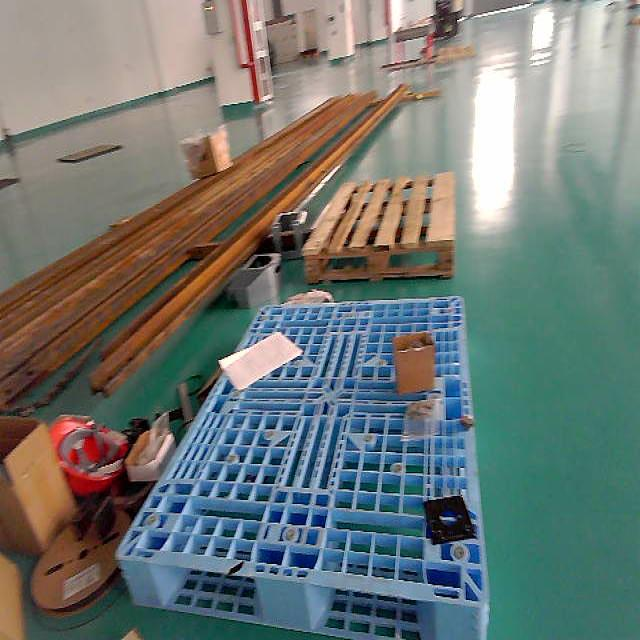euro: (304, 172, 456, 287)
